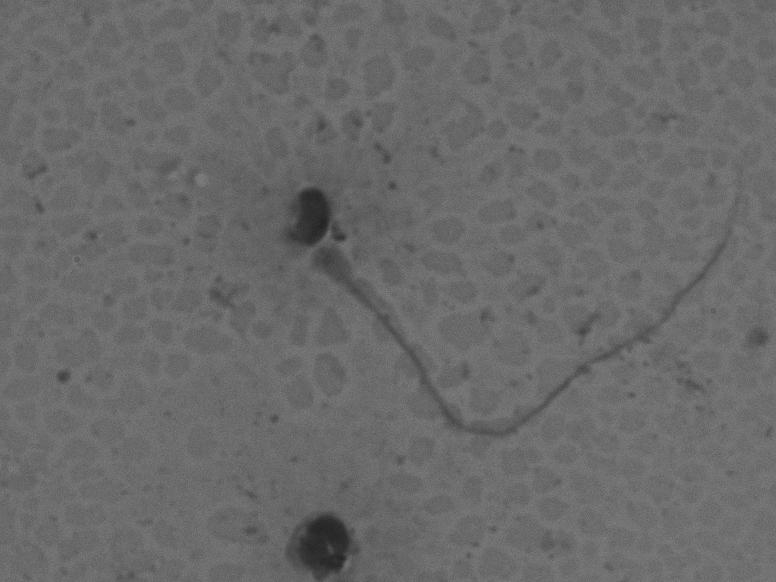Abnormal: (279, 129, 755, 460)
